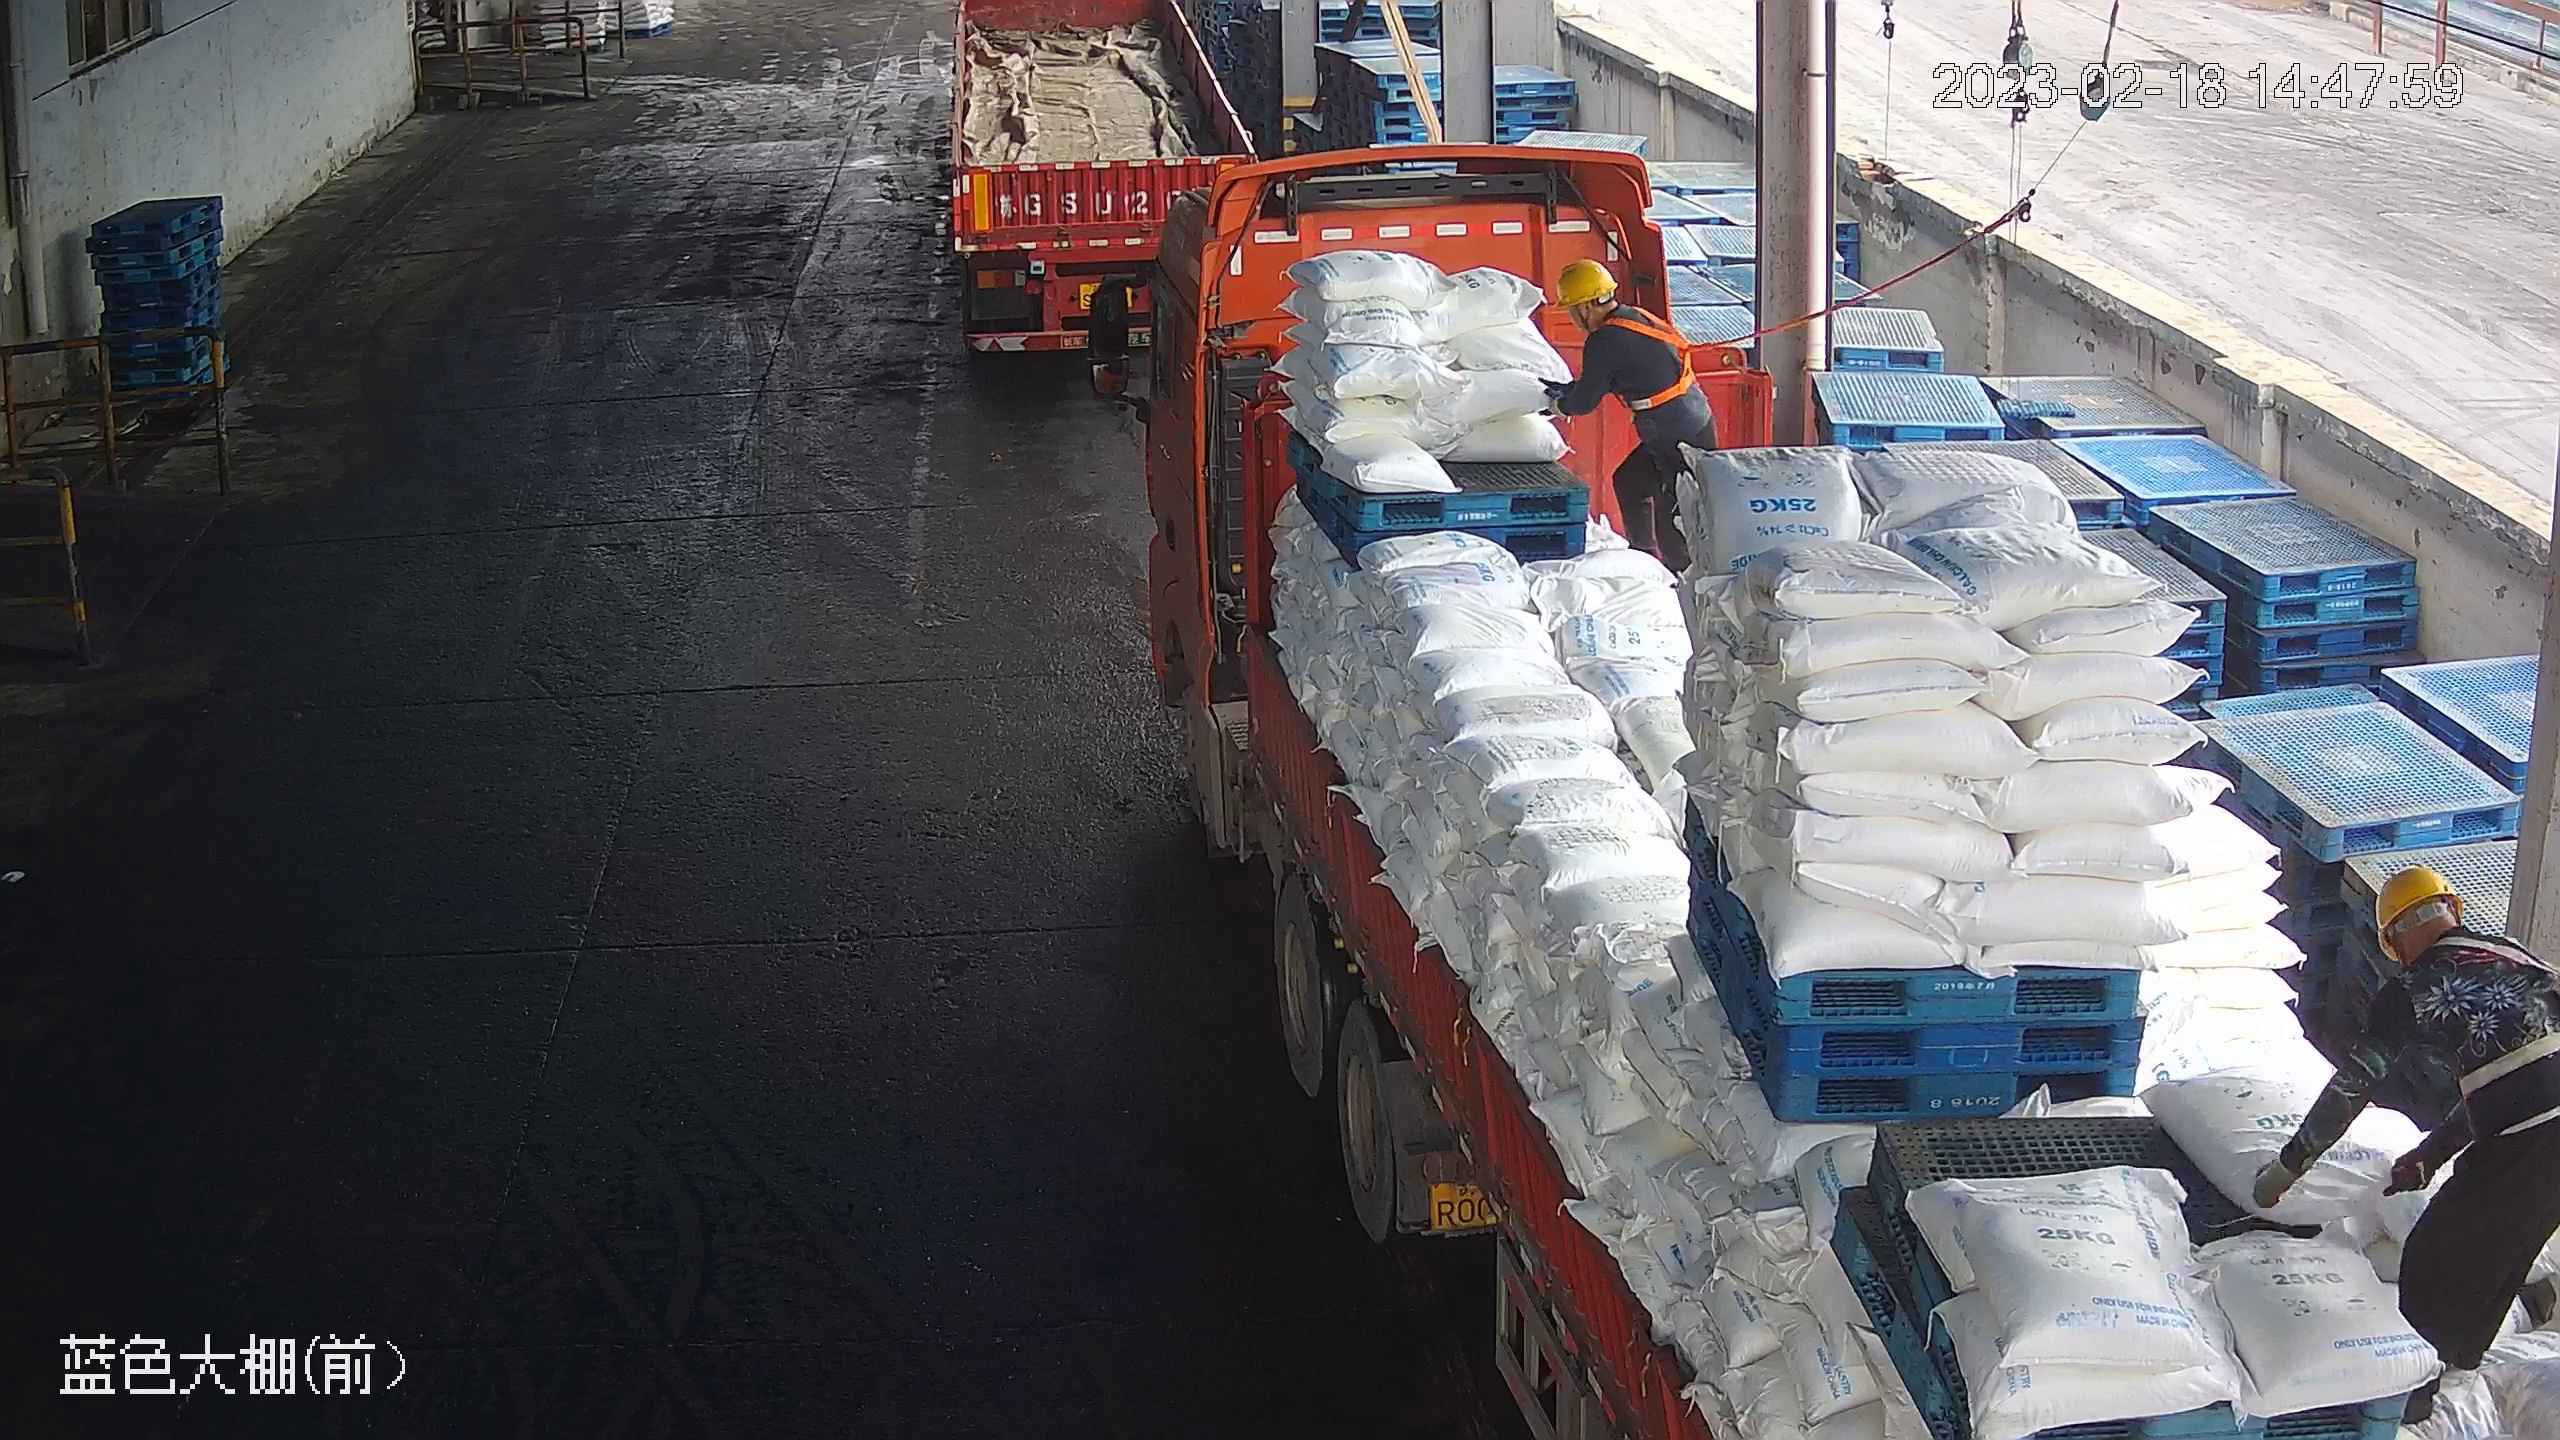belt: (2428, 947, 2556, 1095), (1609, 300, 1704, 411)
head: (2351, 860, 2557, 1035), (1552, 256, 1685, 369)
helmet: (2369, 860, 2463, 950), (1553, 255, 1620, 307)
people: (2247, 854, 2558, 1433), (1537, 257, 1722, 584)
truck: (1090, 139, 2553, 1437), (947, 2, 1262, 355)
